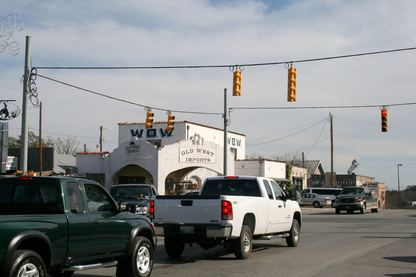car: (107, 182, 160, 217), (299, 193, 331, 206)
truck: (0, 175, 162, 275), (133, 176, 307, 259), (332, 186, 383, 215)
